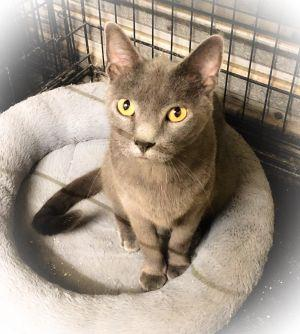rblue: (100, 17, 230, 169)
